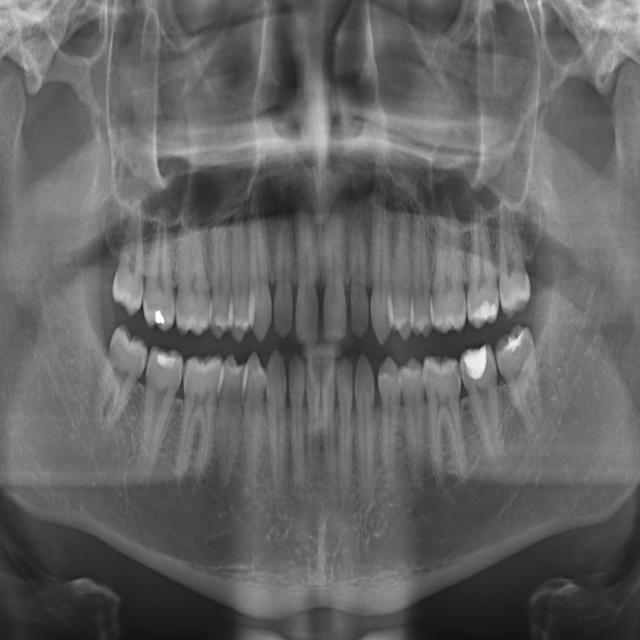AmalgamRestoration: (152, 307, 165, 328)
CompositeResinRestoration: (463, 344, 489, 381), (503, 330, 528, 360), (473, 298, 501, 324), (156, 348, 180, 375)
DentalCaries: (462, 361, 472, 396)
